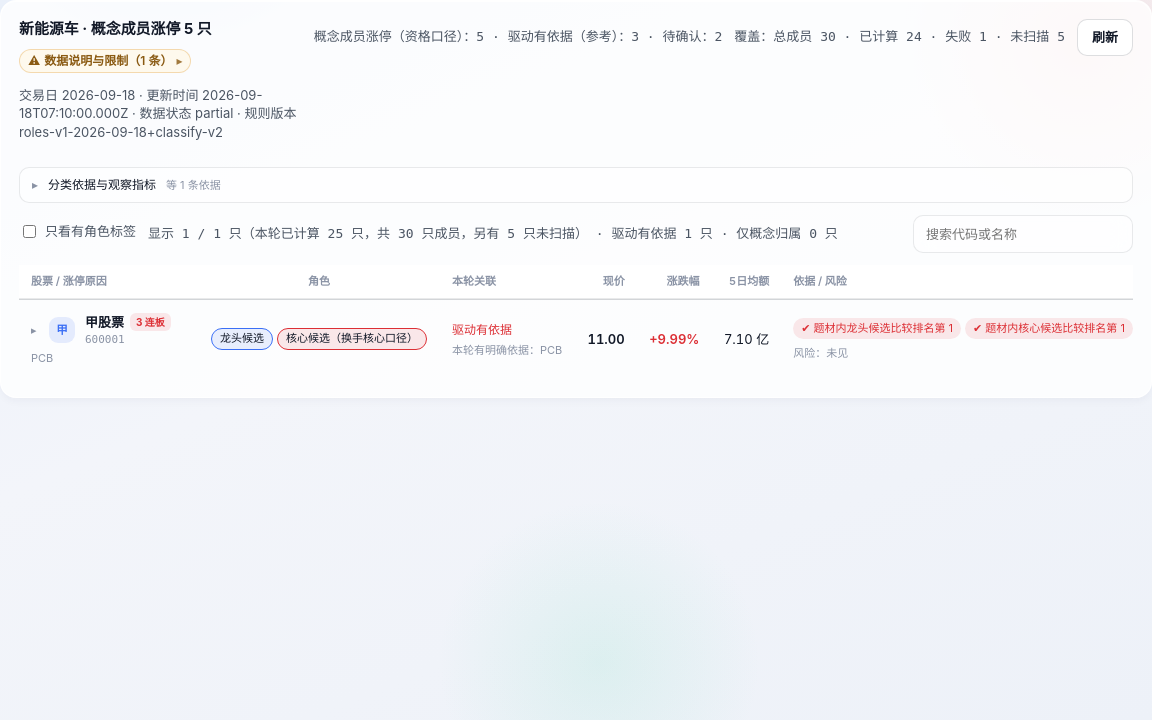
Scenario: ThemeDetail › partial 时覆盖说明与数据限制收在标题旁的警示按钮里，点开才显示
The image size is (1152, 720).
Expected: the text "甲股票" is shown, [85,314,124,330]
Expected: the element "新能源车 · 概念成员涨停 5 只 ⚠ 数据说明与限制（1 条） ▸" is shown, [19,20,212,73]
Click the button "⚠ 数据说明与限制（1 条） ▸" at coordinates (105, 61), box [19,49,192,73]
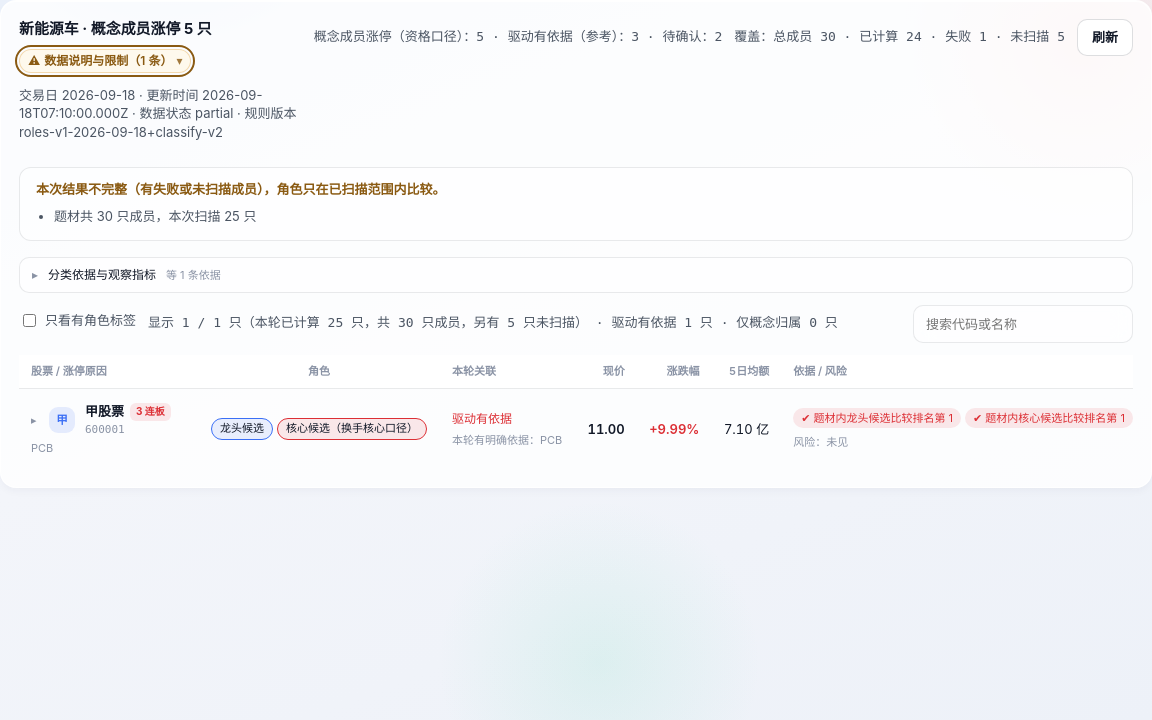
Expected: the element with class "overview__actions" shows "未扫描", [987,29,1049,44]
Expected: the button "⚠ 数据说明与限制（1 条） ▾" is expanded, [19,49,192,73]
Expected: the text "本次结果不完整（有失败或未扫描成员），角色只在已扫描范围内比较。" is shown, [36,181,446,197]
